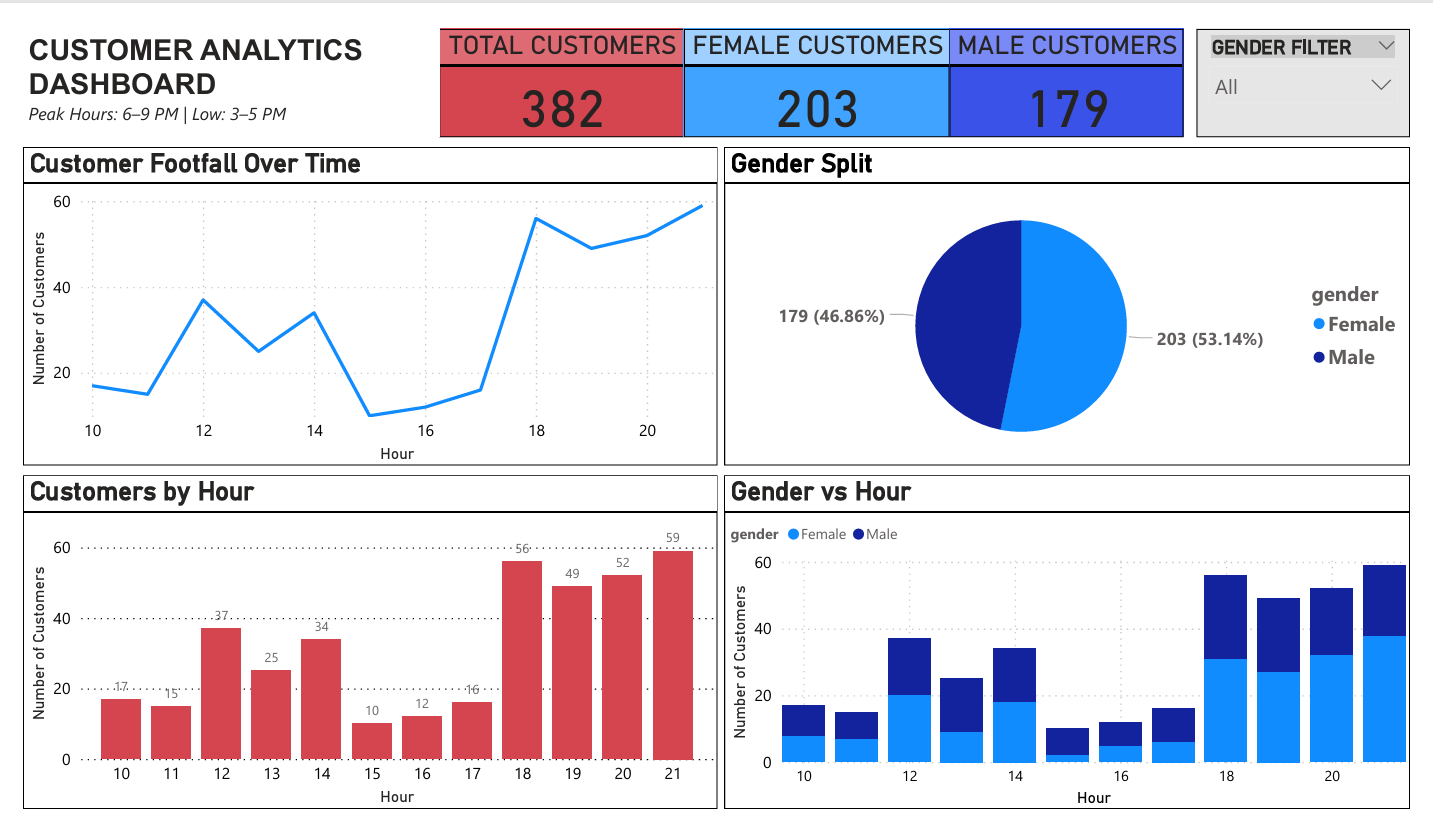

The page's visual inventory and layout, read from the dashboard file:
{"tool":"powerbi","page":{"name":"Page 1","canvas":[1280,720],"ordinal":0},"visuals":[{"type":"lineChart","title":"Customer Footfall Over Time","fields":{"Y":["CountNonNull(customer_data.person_id)"],"Category":["customer_data.Hour"]},"box":[0,108.8,640.5,294.6],"z":0},{"type":"pieChart","title":"Gender Split","fields":{"Category":["customer_data.gender"],"Y":["CountNonNull(customer_data.person_id)"]},"box":[646.7,108.8,633.2,294.6],"z":1000},{"type":"clusteredColumnChart","title":"Customers by Hour","fields":{"Category":["customer_data.Hour"],"Y":["CountNonNull(customer_data.person_id)"]},"box":[0,412,640.5,308],"z":2000},{"type":"columnChart","title":"Gender vs Hour","fields":{"Category":["customer_data.Hour"],"Y":["CountNonNull(customer_data.person_id)"],"Series":["customer_data.gender"]},"box":[646.7,412,633.2,308],"z":3000},{"type":"card","title":"TOTAL CUSTOMERS","fields":{"Values":["CountNonNull(customer_data.person_id)"]},"box":[384,0,226,100],"z":4000},{"type":"card","title":"FEMALE CUSTOMERS","fields":{"Values":["CountNonNull(customer_data.gender)"]},"box":[610,0,245,100],"z":5000},{"type":"card","title":"MALE CUSTOMERS","fields":{"Values":["CountNonNull(customer_data.gender)"]},"box":[855,0,216,100],"z":6000},{"type":"textbox","box":[0,0,384.4,100],"z":7000},{"type":"slicer","fields":{"Values":["customer_data.gender"]},"box":[1083.1,0,196.8,100.2],"z":8000}]}

Visuals, with their boxes in screenshot pixels (x1, y1, x2, y2), scaled from the page's 1280x720 canvas onto the 1433x828 screenshot:
"Customer Footfall Over Time" lineChart: x1=0 y1=125 x2=717 y2=464
"Gender Split" pieChart: x1=724 y1=125 x2=1432 y2=464
"Customers by Hour" clusteredColumnChart: x1=0 y1=474 x2=717 y2=827
"Gender vs Hour" columnChart: x1=724 y1=474 x2=1432 y2=827
"TOTAL CUSTOMERS" card: x1=430 y1=0 x2=683 y2=115
"FEMALE CUSTOMERS" card: x1=683 y1=0 x2=957 y2=115
"MALE CUSTOMERS" card: x1=957 y1=0 x2=1199 y2=115
textbox: x1=0 y1=0 x2=430 y2=115
slicer - customer_data.gender: x1=1213 y1=0 x2=1432 y2=115
